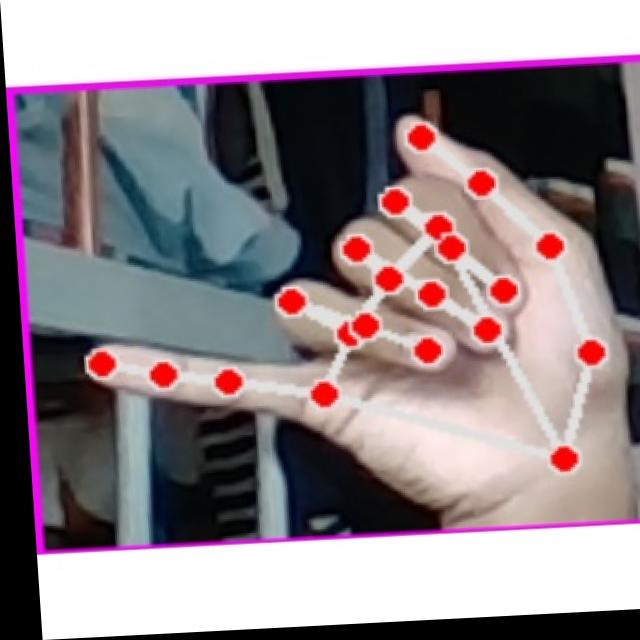J: (46, 109, 640, 534)
